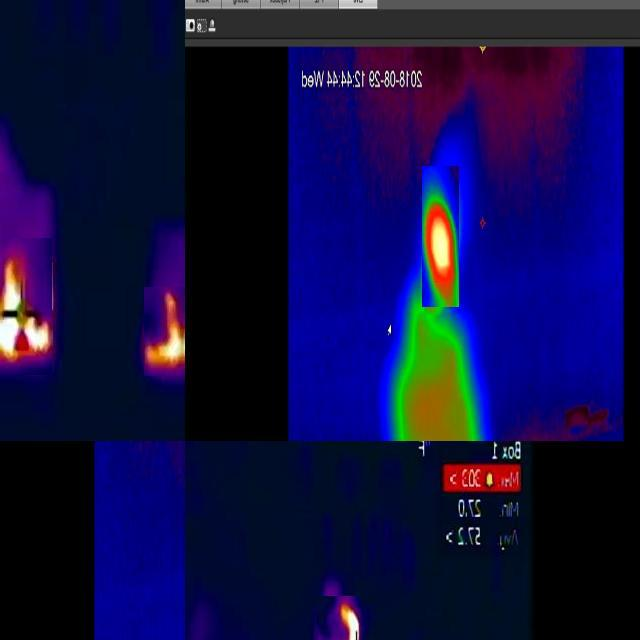fire: (1, 238, 52, 375), (422, 166, 459, 307), (144, 287, 186, 376), (316, 596, 362, 640)
